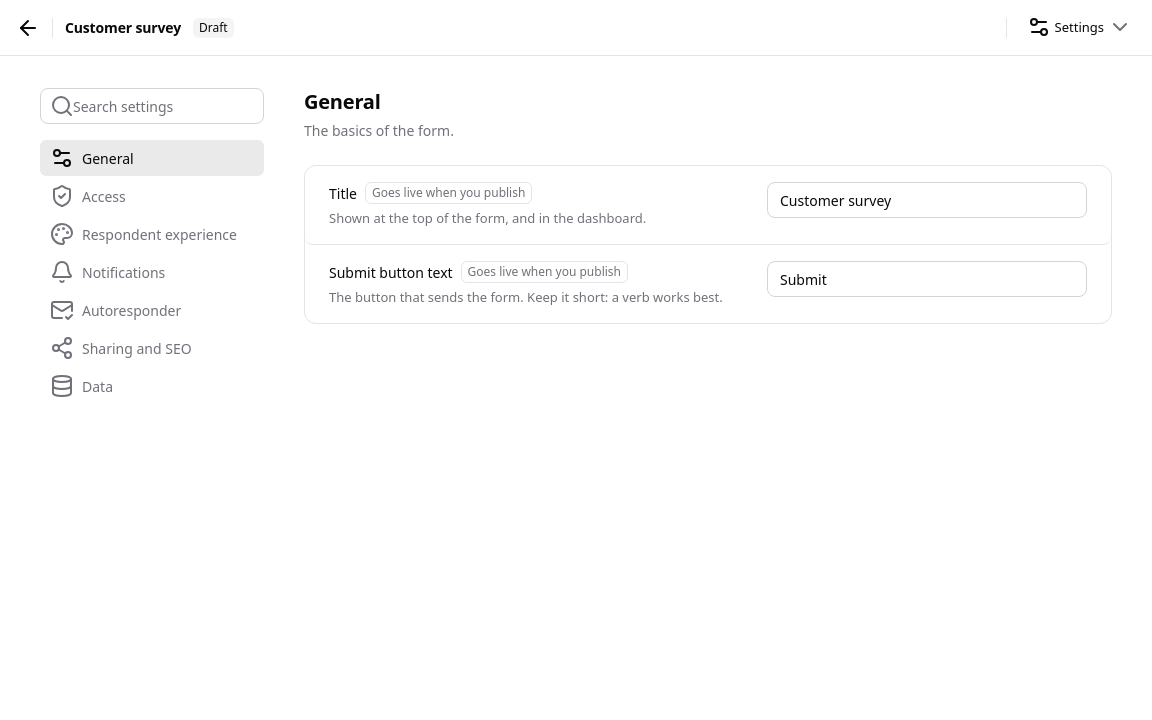
Scenario: FormSettingsPage › switches sections from the nav
Expected: the heading "General" is shown, [304,88,381,115]
Click the button "Data": (152,386) [40,368,264,404]
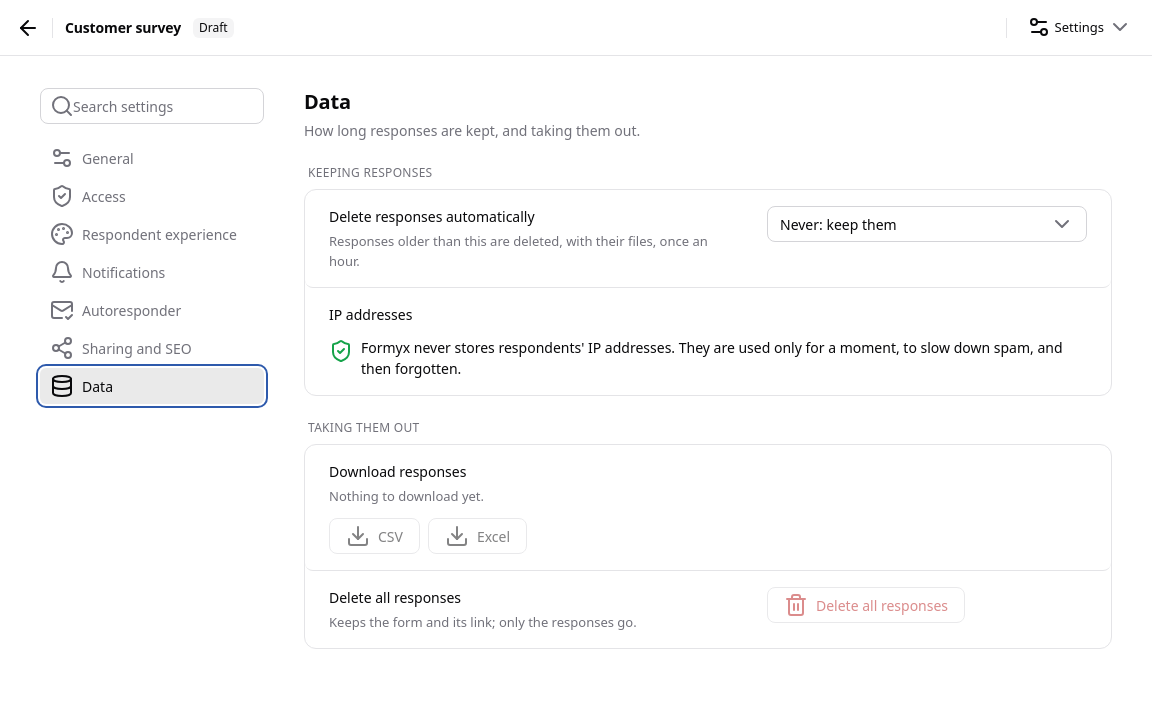
Result: the heading "Data" is shown at [304,88,351,115]
Result: the text "never stores respondents' IP addresses" is shown at [361,338,1062,378]
